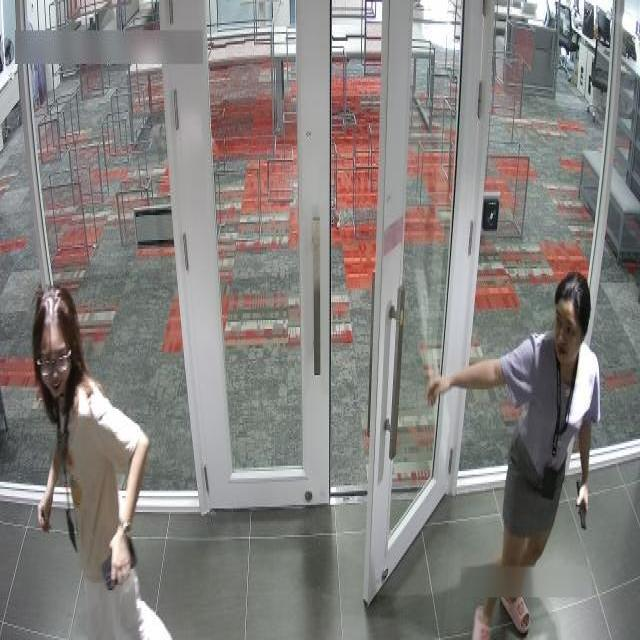bare_hand: (105, 500, 148, 594), (423, 352, 458, 421), (569, 471, 605, 528), (34, 485, 60, 544)
